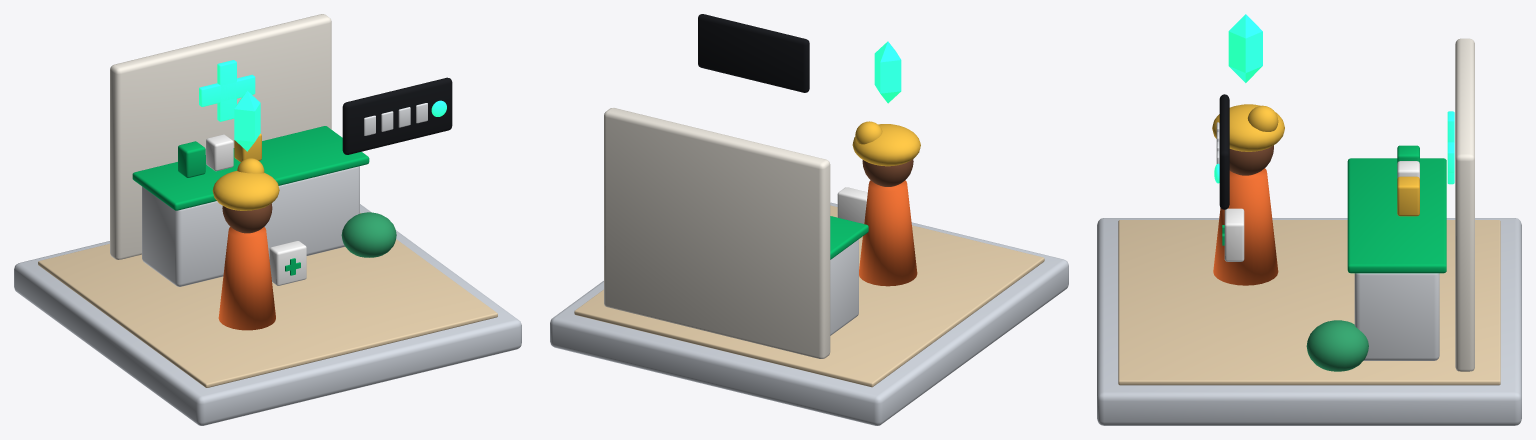
File: step-3.glb
3 renders of one model, left to right at view 1: azimuth 30°, elevation 25°; view 2: azimuth 150°, elevation 25°; view 3: azimuth 270°, elevation 25°, orthographic. The views are drawn at different scales.
Visible parts, largest first — view 1: Step3_floor, s3_wall, Step3_slab, s3_counter, s3_counter_top, s3_ticket_body, s3_mum_body, s3_gele, s3_bush, s3_bag_body, s3_plumbob, s3_cross_h (+4 smaller); view 2: s3_wall, Step3_slab, Step3_floor, s3_ticket_body, s3_mum_body, s3_counter, s3_gele, s3_plumbob, s3_counter_top, s3_bag_body, s3_mum_head, s3_knot; view 3: Step3_floor, Step3_slab, s3_counter_top, s3_counter, s3_wall, s3_mum_body, s3_bush, s3_plumbob, s3_gele, s3_ticket_body, s3_bag_body, s3_mum_head (+2 smaller).
Part boxes in pixels (<box>): Step3_floor: <box>38,213,497,387</box>; s3_wall: <box>110,14,331,259</box>; Step3_slab: <box>14,204,521,425</box>; s3_counter: <box>142,166,359,286</box>; s3_counter_top: <box>132,126,369,210</box>; s3_ticket_body: <box>342,77,452,154</box>; s3_mum_body: <box>218,227,275,330</box>; s3_gele: <box>212,171,279,210</box>; s3_bush: <box>341,212,396,257</box>; s3_bag_body: <box>269,241,306,285</box>; s3_plumbob: <box>234,91,260,151</box>; s3_cross_h: <box>199,74,255,106</box>; s3_wall: <box>604,108,830,358</box>; Step3_slab: <box>550,202,1068,425</box>; Step3_floor: <box>574,205,1044,387</box>; s3_ticket_body: <box>698,14,809,92</box>; s3_mum_body: <box>859,180,917,286</box>; s3_counter: <box>830,239,858,335</box>; s3_gele: <box>852,124,920,166</box>; s3_plumbob: <box>874,41,901,103</box>; s3_counter_top: <box>830,216,868,259</box>; s3_bag_body: <box>837,187,867,223</box>; s3_mum_head: <box>862,159,913,186</box>; s3_knot: <box>855,121,882,144</box>; Step3_floor: <box>1118,220,1500,385</box>; Step3_slab: <box>1097,218,1521,425</box>; s3_counter_top: <box>1347,158,1446,273</box>; s3_counter: <box>1354,273,1439,360</box>; s3_wall: <box>1455,38,1474,371</box>; s3_mum_body: <box>1213,168,1278,285</box>; s3_bush: <box>1306,320,1368,371</box>; s3_plumbob: <box>1228,14,1262,82</box>; s3_gele: <box>1212,104,1284,151</box>; s3_ticket_body: <box>1219,94,1229,209</box>; s3_bag_body: <box>1224,208,1244,261</box>; s3_mum_head: <box>1229,145,1273,175</box>.
Size of the model in its own units: 3 by 2.32 by 3.
